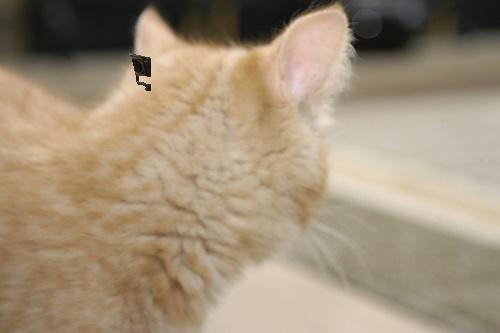tampered: (130, 54, 151, 91)
